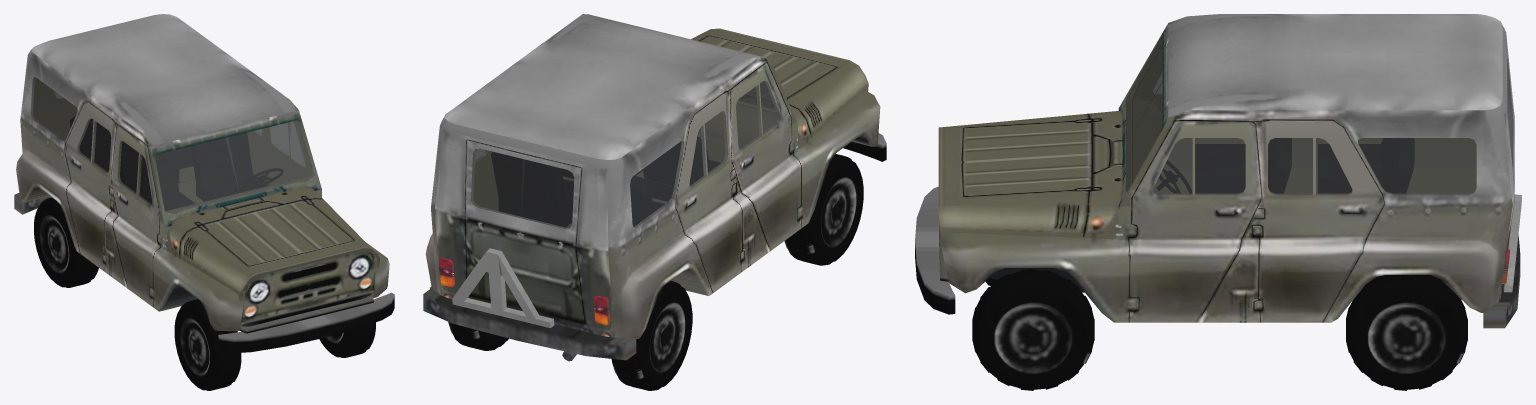
The model's file is vehicles.glb.
3 renders of one model, left to right at view 1: azimuth 30°, elevation 25°; view 2: azimuth 150°, elevation 25°; view 3: azimuth 270°, elevation 25°, orthographic. The views are drawn at different scales.
Parts seen in each view (by area): view 1: Body, Glass, wheel.003, wheel.002, wheel, helm; view 2: Body, Glass, wheel.003, wheel.002, wheel.001; view 3: Body, Glass, wheel, wheel.001.
Part boxes in pixels (left/top/right/bottom): Body: left=14, top=14, right=394, bottom=352; Glass: left=30, top=77, right=314, bottom=212; wheel.003: left=174, top=299, right=241, bottom=390; wheel.002: left=34, top=197, right=98, bottom=287; wheel: left=319, top=322, right=375, bottom=357; helm: left=242, top=168, right=283, bottom=188; Body: left=423, top=14, right=886, bottom=361; Glass: left=471, top=81, right=780, bottom=228; wheel.003: left=784, top=154, right=863, bottom=265; wheel.002: left=611, top=281, right=692, bottom=390; wheel.001: left=448, top=322, right=508, bottom=350; Body: left=915, top=14, right=1521, bottom=328; Glass: left=1126, top=36, right=1513, bottom=195; wheel: left=972, top=269, right=1094, bottom=390; wheel.001: left=1346, top=275, right=1467, bottom=390.
Size of the model in its own units: 183 by 215 by 413.
6 materials, 5 textured.
